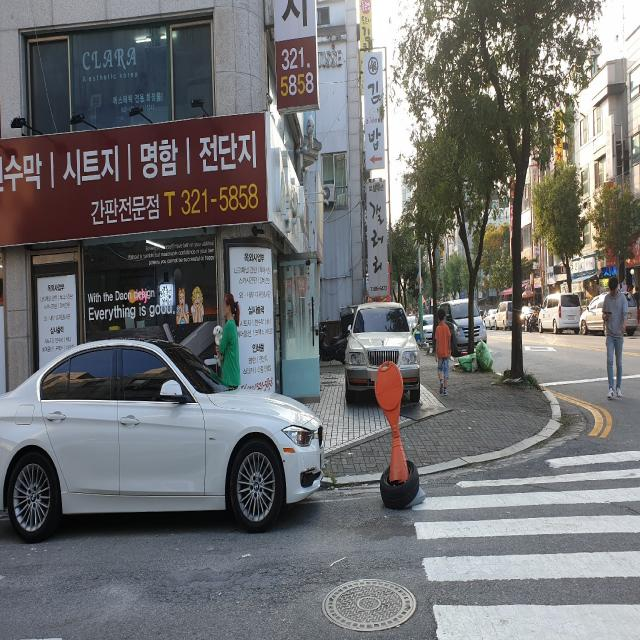횡단보도: (409, 446, 640, 640)
